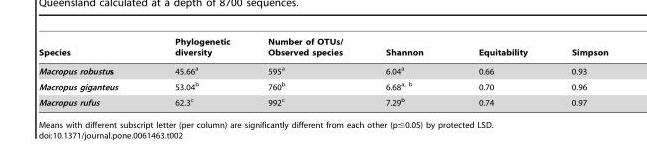table: (37, 37, 607, 106)
table column: (248, 37, 363, 106), (37, 37, 146, 106), (146, 37, 248, 106), (450, 37, 548, 106), (363, 37, 450, 106), (548, 37, 607, 106)
table column header: (37, 37, 607, 60)
table row: (37, 37, 607, 60), (37, 60, 607, 78), (37, 78, 607, 93), (37, 93, 607, 106)
